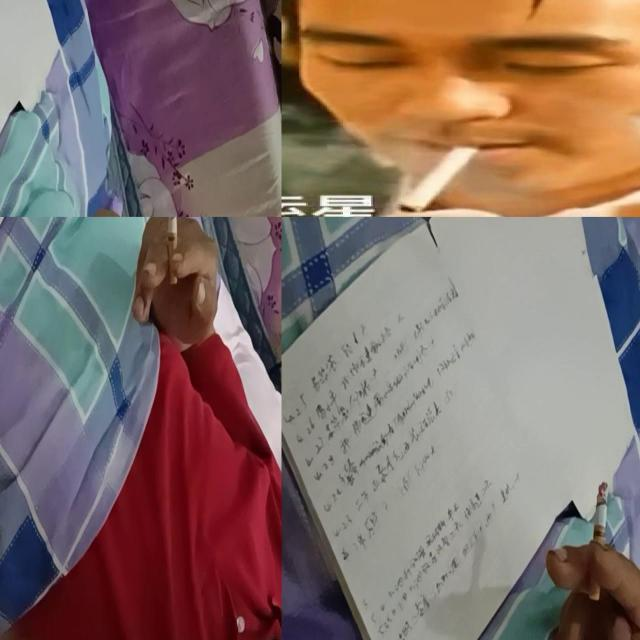smoking: (396, 144, 478, 213), (588, 482, 608, 601), (168, 217, 178, 286)
